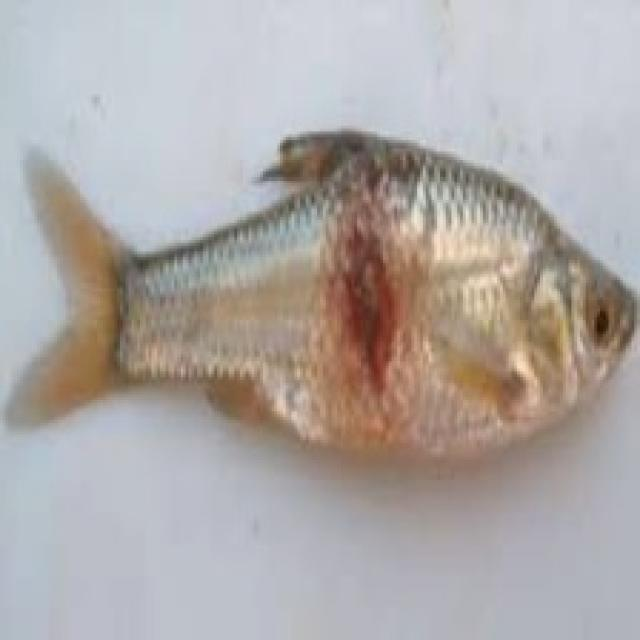bacterial_red: (330, 211, 403, 395)
